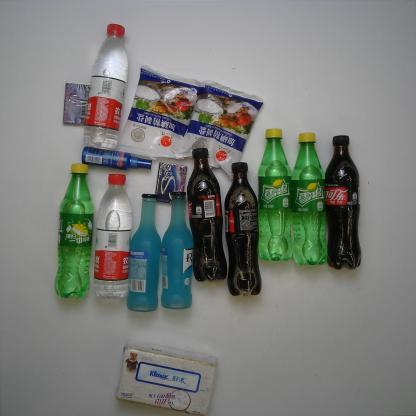Alcohol: (124, 191, 160, 314), (159, 190, 195, 311)
Drink: (82, 22, 130, 151), (53, 163, 95, 300), (187, 147, 228, 283), (223, 160, 262, 297), (290, 131, 328, 267), (256, 127, 294, 263), (325, 134, 362, 270), (92, 172, 131, 300)
Gum: (154, 160, 188, 206), (61, 80, 92, 126)
Personal Hygiene: (80, 145, 154, 176)
Seasoner: (172, 80, 265, 179), (113, 64, 207, 161)
Tissue: (114, 338, 218, 414)
